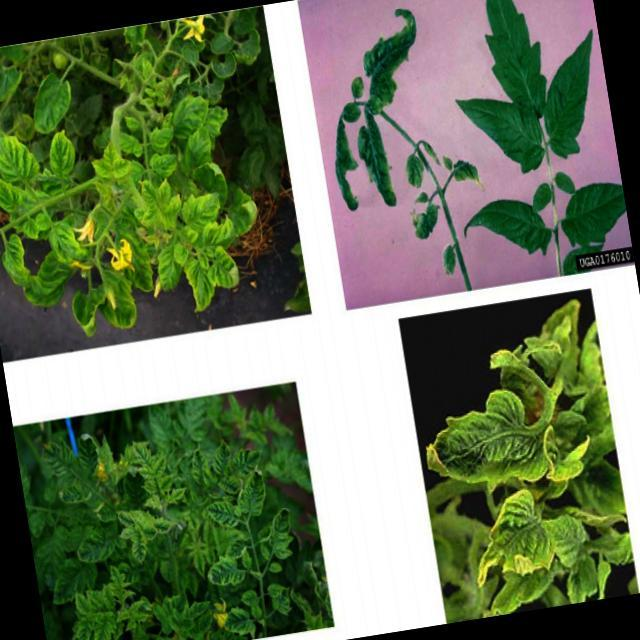Tomato yellow virus leaf: (411, 381, 576, 503), (462, 479, 594, 596), (41, 432, 105, 509), (0, 127, 45, 197), (94, 268, 144, 330), (168, 90, 218, 144), (68, 284, 114, 342), (204, 244, 254, 296), (45, 125, 87, 184), (46, 221, 90, 276), (73, 522, 128, 566), (0, 233, 32, 301), (178, 189, 226, 233), (235, 463, 272, 517), (153, 242, 188, 296), (202, 548, 246, 590), (264, 507, 298, 560), (220, 604, 260, 640), (228, 446, 269, 479), (208, 436, 238, 478), (107, 564, 133, 610), (188, 446, 212, 494), (207, 498, 240, 532), (148, 152, 182, 182), (90, 605, 119, 640), (127, 528, 151, 570), (0, 177, 28, 213), (180, 595, 213, 625), (138, 178, 167, 209), (138, 207, 166, 237), (72, 590, 96, 622), (151, 513, 179, 539), (89, 160, 115, 186), (114, 160, 142, 183), (74, 614, 98, 640), (118, 508, 140, 527), (150, 456, 168, 478)
